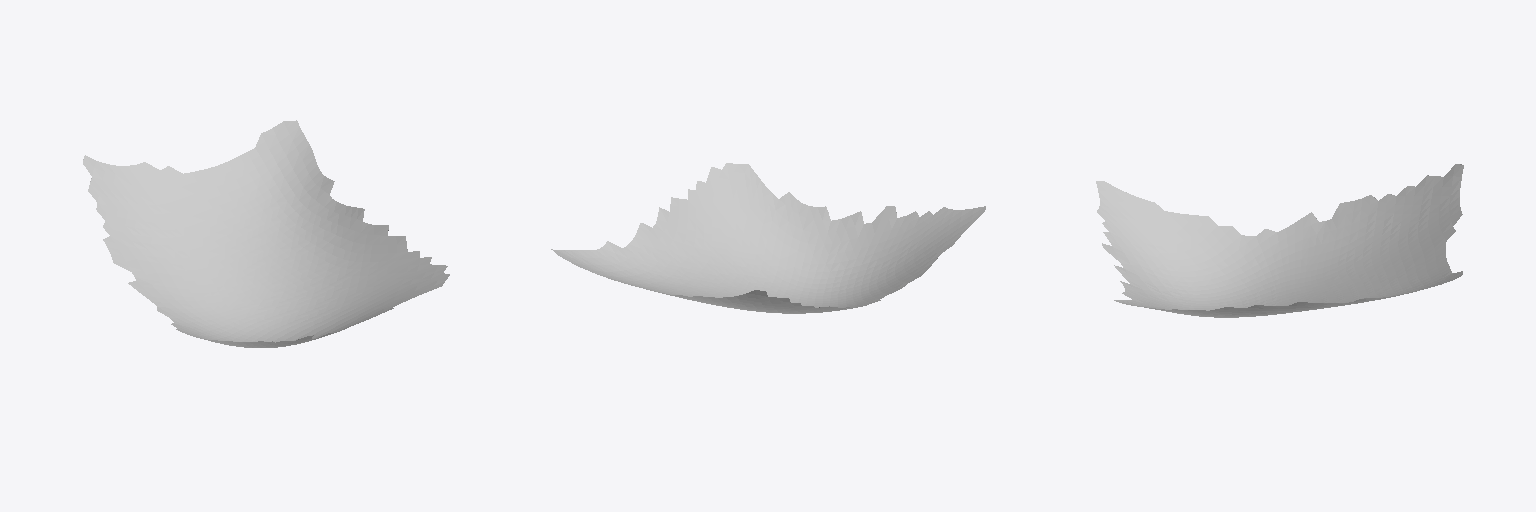
The model's file is Complex_Surf_mesh_opt.obj.
3 renders of one model, left to right at view 1: azimuth 30°, elevation 25°; view 2: azimuth 150°, elevation 25°; view 3: azimuth 270°, elevation 25°, orthographic.
Size of the model in its own units: 1.1 by 0.43 by 1.36.